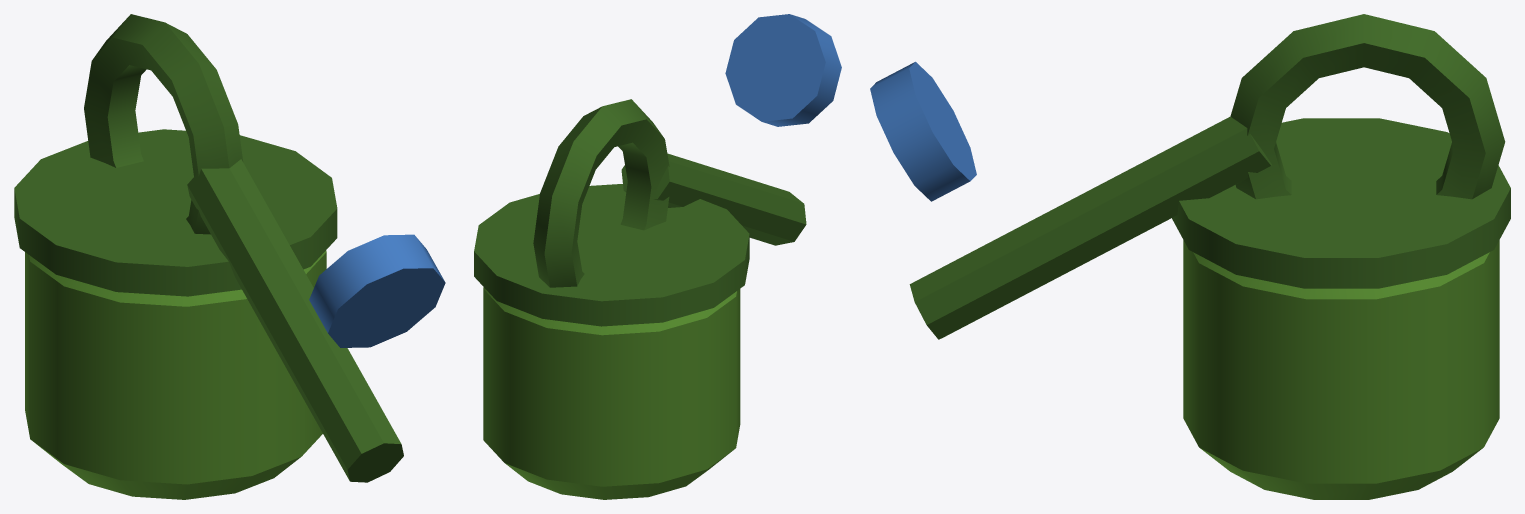
File: c_watering.glb
The picture shows the model from 3 angles, left to right: view 1: azimuth 30°, elevation 25°; view 2: azimuth 150°, elevation 25°; view 3: azimuth 270°, elevation 25°; orthographic projection. The views are drawn at different scales.
Visible parts, largest first — view 1: body; view 2: body; view 3: body.
Boxes of the visible parts, x1,y1,x2,y2 form: body: [14, 14, 445, 499]; body: [474, 14, 841, 499]; body: [870, 14, 1510, 499].
Bounding box in the file's own units: 0.2925 × 0.425 × 0.5673.
